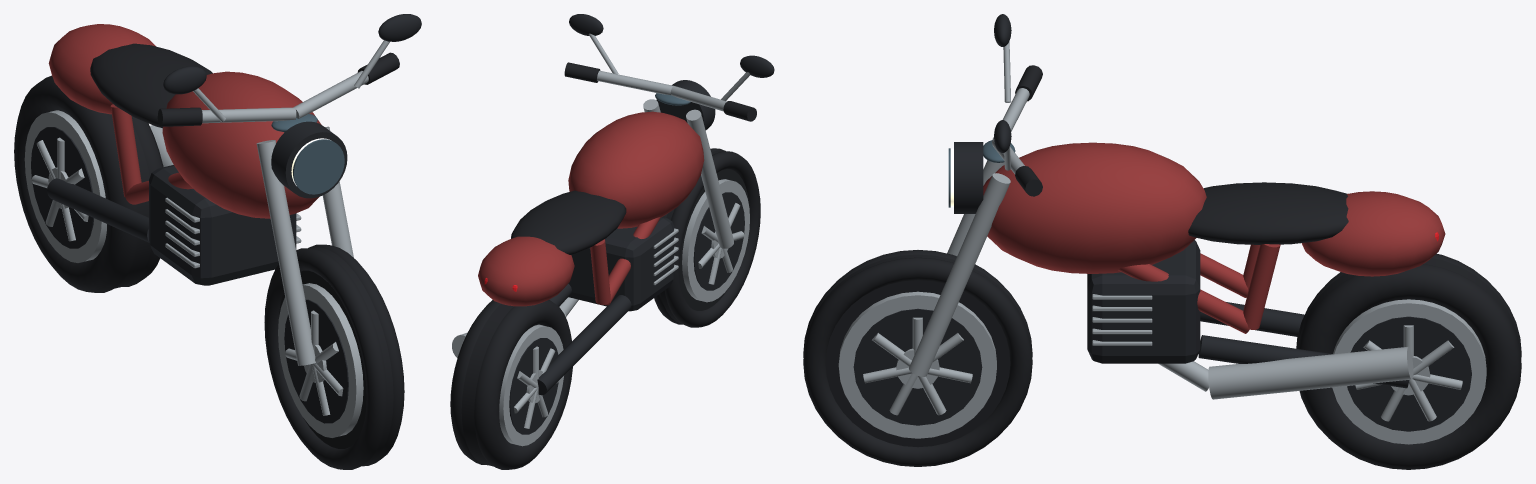
The model's file is Motorrad.glb.
3 renders of one model, left to right at view 1: azimuth 30°, elevation 25°; view 2: azimuth 150°, elevation 25°; view 3: azimuth 270°, elevation 25°, orthographic. The views are drawn at different scales.
Visible parts, largest first — view 1: Rad_Vorne_Mesh, Rad_Hinten_Mesh, Tank, Motorblock, Sitz, Heckverkleidung, Teleskopgabel, Schwinge, Scheinwerferglas, Scheinwerfer, Rahmen.001, Teleskopgabel.001 (+7 smaller); view 2: Rad_Hinten_Mesh, Rad_Vorne_Mesh, Tank, Heckverkleidung, Motorblock, Sitz, Schwinge, Teleskopgabel, Scheinwerfer, Rahmen.001, Rahmen, Lenker.001 (+5 smaller); view 3: Rad_Vorne_Mesh, Rad_Hinten_Mesh, Tank, Motorblock, Sitz, Heckverkleidung, Endschalldaempfer, Teleskopgabel.001, Schwinge.001, Scheinwerfer, Rahmen.002, Rahmen.003 (+4 smaller).
Boxes of the visible parts, x1,y1,x2,y2 form: Rad_Vorne_Mesh: [264, 244, 404, 469]; Rad_Hinten_Mesh: [14, 75, 163, 292]; Tank: [162, 71, 321, 218]; Motorblock: [149, 165, 296, 285]; Sitz: [90, 43, 212, 128]; Heckverkleidung: [48, 24, 155, 114]; Teleskopgabel: [256, 140, 315, 365]; Schwinge: [47, 178, 149, 242]; Scheinwerferglas: [293, 139, 344, 194]; Scheinwerfer: [271, 121, 347, 198]; Rahmen.001: [110, 104, 141, 196]; Teleskopgabel.001: [322, 126, 353, 257]; Rad_Hinten_Mesh: [450, 300, 572, 469]; Rad_Vorne_Mesh: [654, 148, 760, 327]; Tank: [568, 111, 704, 228]; Heckverkleidung: [478, 236, 574, 306]; Motorblock: [568, 217, 674, 311]; Sitz: [511, 190, 626, 254]; Schwinge: [537, 295, 631, 395]; Teleskopgabel: [686, 109, 733, 248]; Scheinwerfer: [656, 80, 715, 130]; Rahmen.001: [590, 239, 610, 304]; Rahmen: [605, 217, 660, 305]; Lenker.001: [597, 70, 673, 95]; Rad_Vorne_Mesh: [803, 250, 1032, 466]; Rad_Hinten_Mesh: [1296, 253, 1521, 469]; Tank: [983, 142, 1206, 273]; Motorblock: [1087, 240, 1200, 363]; Sitz: [1188, 182, 1348, 244]; Heckverkleidung: [1301, 191, 1445, 276]; Endschalldaempfer: [1208, 346, 1413, 399]; Teleskopgabel.001: [909, 173, 1010, 376]; Schwinge.001: [1198, 335, 1409, 388]; Scheinwerfer: [954, 142, 983, 213]; Rahmen.002: [1118, 264, 1249, 333]; Rahmen.003: [1243, 244, 1280, 329].
Size of the model in its own units: 0.852 by 1.22 by 2.04.
